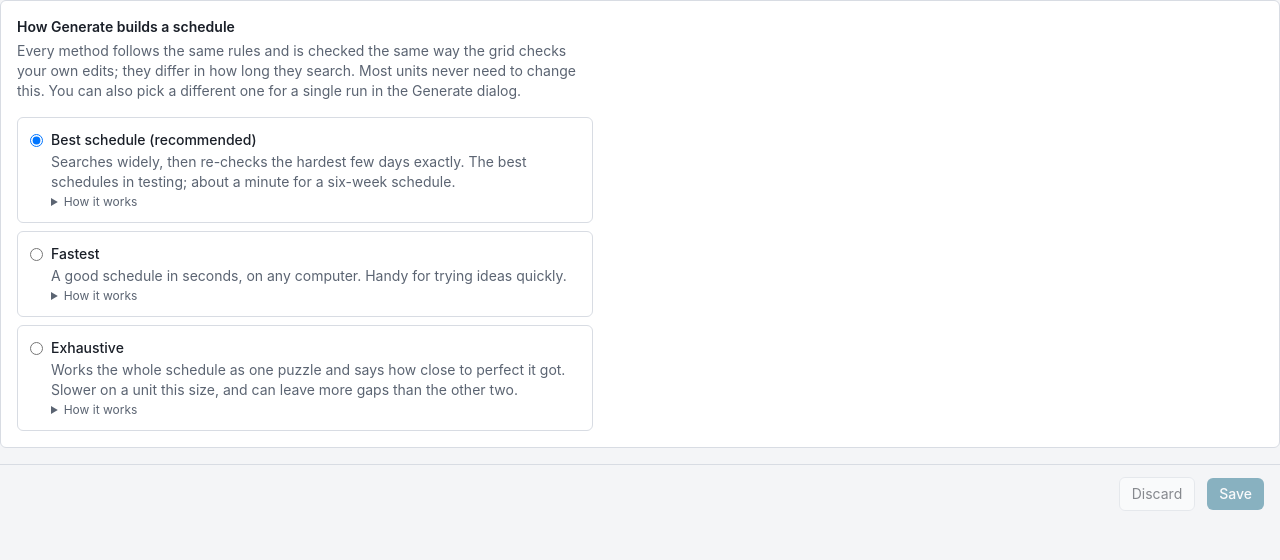
Scenario: Settings › Solver › says Saved after the default solver changes
Click the radio button with test id "solver-option-sa-lns" at point(36, 254), box [30, 248, 43, 261]
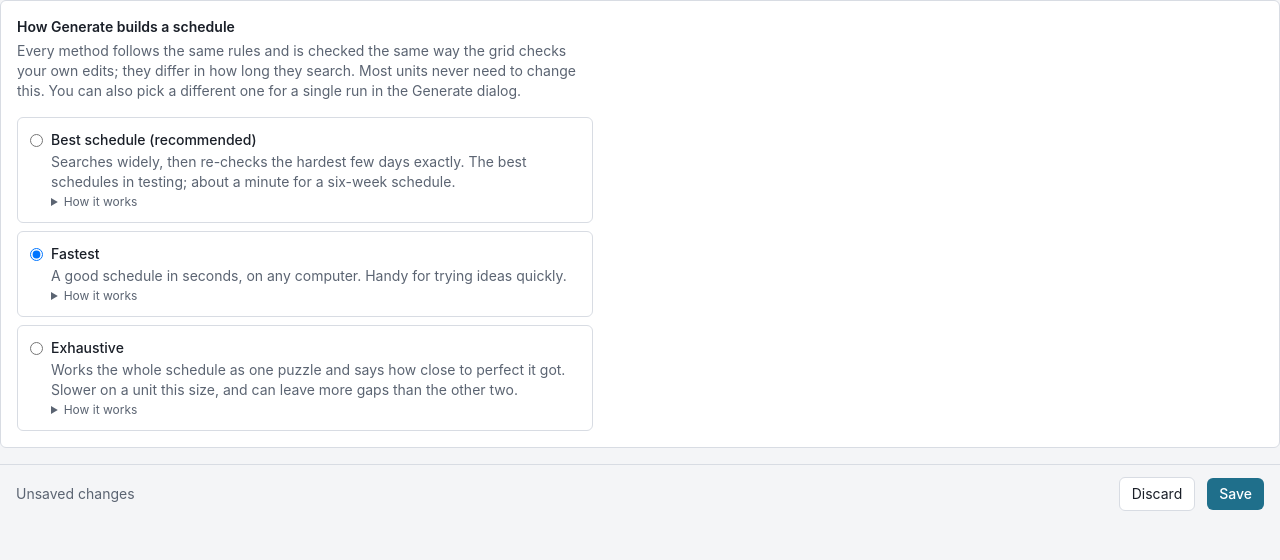
Click the button "Save" at point(1236, 494), box [1207, 478, 1264, 510]
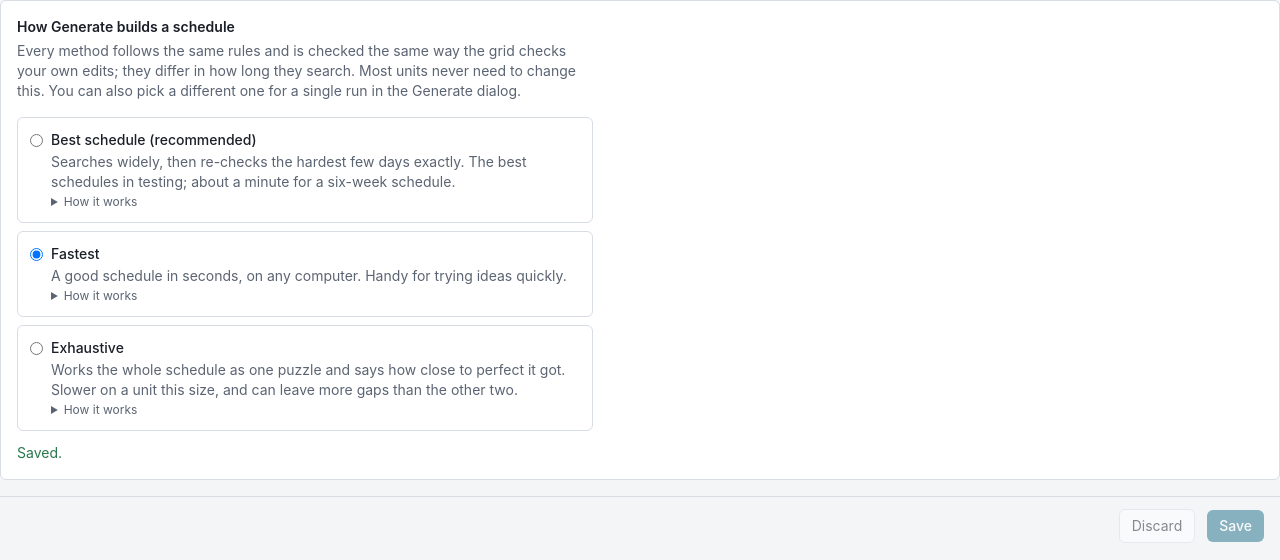
Now the message reads "Saved.", box [17, 444, 62, 461]
